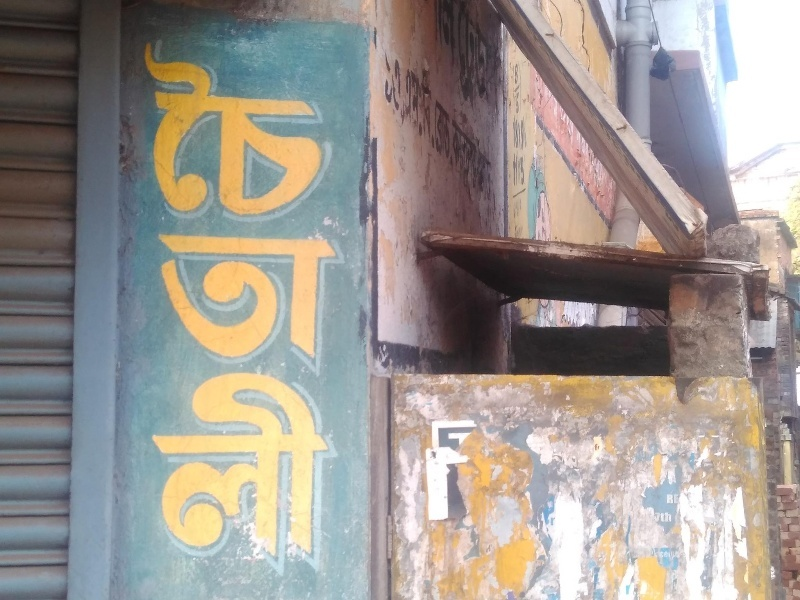text: (145, 40, 160, 583), (161, 40, 176, 583), (177, 40, 192, 583), (193, 40, 208, 583), (209, 40, 224, 583), (225, 40, 240, 583), (241, 40, 256, 583), (257, 40, 272, 583), (273, 40, 288, 583), (289, 40, 304, 583), (305, 40, 320, 583), (321, 40, 336, 583), (337, 40, 351, 583), (481, 45, 497, 209), (401, 45, 416, 209), (417, 45, 432, 209), (433, 45, 448, 209), (449, 45, 464, 209), (465, 45, 480, 209), (386, 45, 400, 209), (593, 453, 608, 597), (609, 453, 624, 597), (625, 453, 640, 597), (641, 453, 656, 597), (657, 453, 672, 597), (673, 453, 688, 597), (689, 453, 704, 597), (705, 453, 720, 597), (721, 453, 736, 597), (737, 453, 749, 597), (142, 40, 144, 583), (465, 41, 480, 107), (481, 41, 496, 107), (454, 41, 464, 107), (513, 151, 528, 190), (513, 64, 524, 116), (513, 115, 528, 152), (590, 453, 592, 597), (508, 64, 512, 116), (497, 41, 499, 107)
